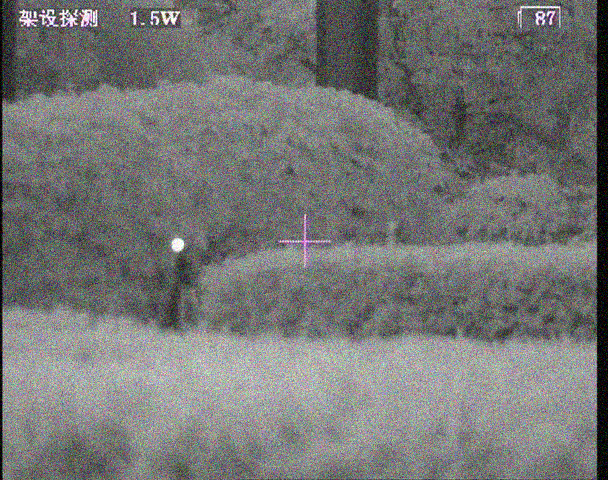my: (169, 236, 186, 254)
